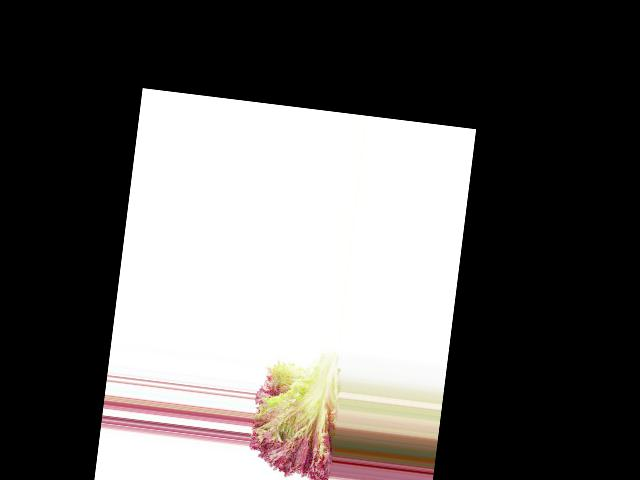lettuce: (248, 345, 346, 466)
